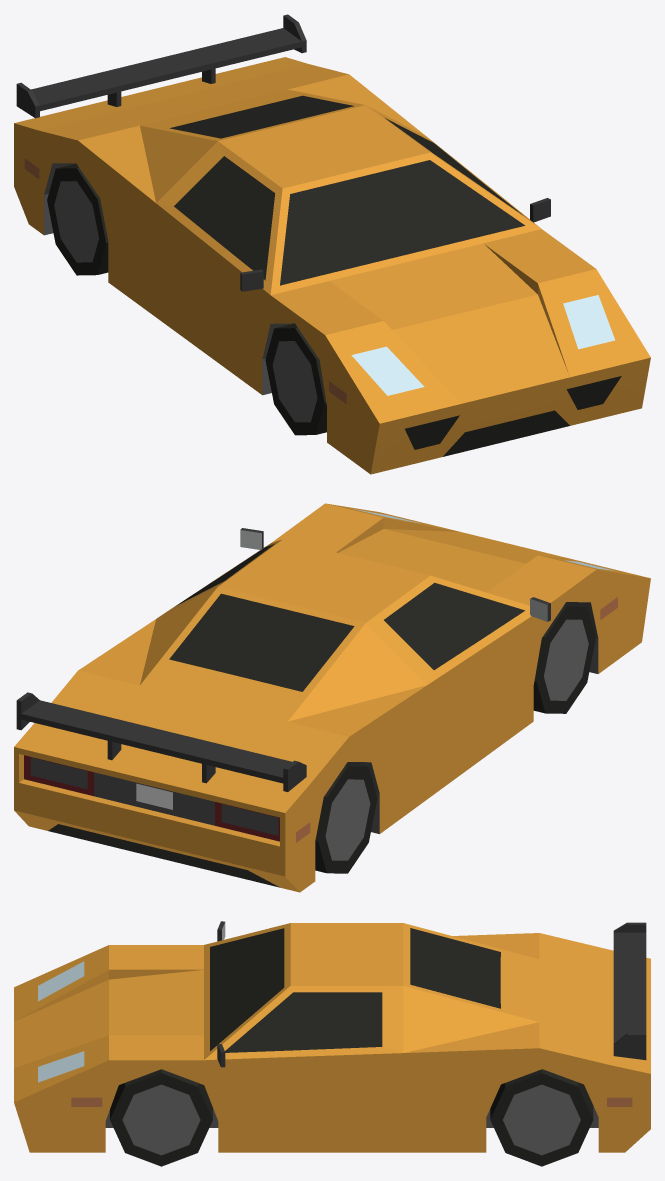
The model's file is Veh_Sports_Car_03_Yellow.glb.
3 renders of one model, top to bottom at view 1: azimuth 30°, elevation 25°; view 2: azimuth 150°, elevation 25°; view 3: azimuth 270°, elevation 25°, orthographic. The views are drawn at different scales.
Parts seen in each view (by area): view 1: Sports_Car_03_Yellow, Wheel_RR, Wheel_FR; view 2: Sports_Car_03_Yellow, Wheel_RR, Wheel_FR; view 3: Sports_Car_03_Yellow, Wheel_RL, Wheel_FL.
Boxes of the visible parts, left/top/right/bottom form: Sports_Car_03_Yellow: left=14, top=14, right=650, bottom=474; Wheel_RR: left=47, top=163, right=108, bottom=275; Wheel_FR: left=265, top=323, right=326, bottom=435; Sports_Car_03_Yellow: left=14, top=503, right=650, bottom=892; Wheel_RR: left=315, top=762, right=377, bottom=873; Wheel_FR: left=533, top=602, right=595, bottom=713; Sports_Car_03_Yellow: left=14, top=921, right=650, bottom=1152; Wheel_RL: left=490, top=1069, right=593, bottom=1166; Wheel_FL: left=110, top=1069, right=212, bottom=1166.
Bounding box in the file's own units: 1.25 × 0.6867 × 2.56.
1 material, 1 textured.
